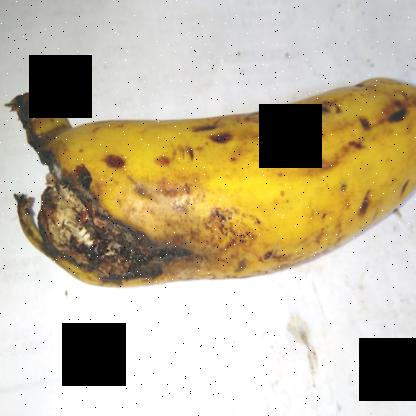rotten: (5, 78, 217, 326)
